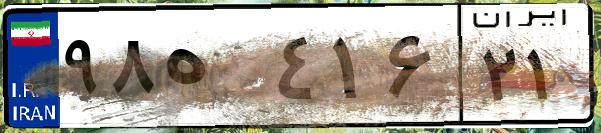1: (330, 28, 385, 110), (525, 38, 570, 115)
2: (475, 38, 525, 113)
4: (270, 28, 330, 110)
6: (385, 28, 445, 110)
8: (110, 28, 158, 98)
9: (57, 26, 110, 100)
ه: (158, 20, 270, 120)
